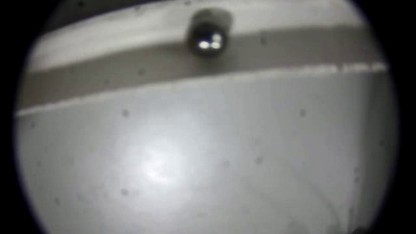gangzhu: (188, 22, 229, 57)
